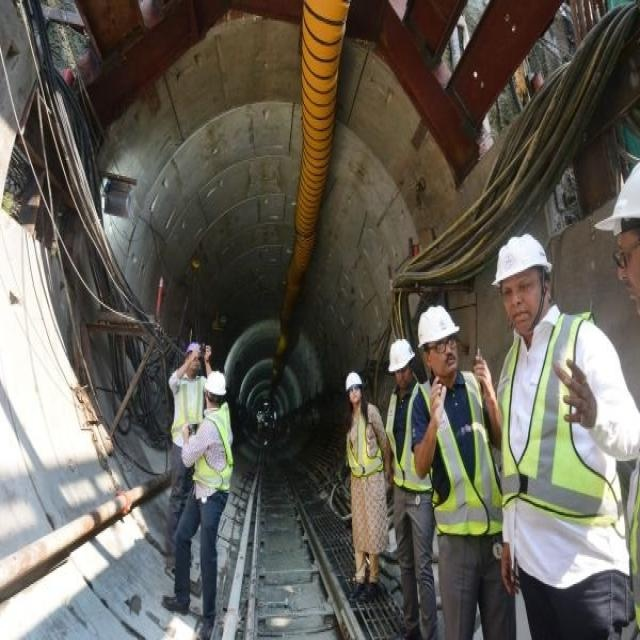Con_Casco: (493, 233, 555, 319), (420, 305, 460, 367)
Con_Chaleco: (497, 321, 613, 527), (418, 372, 496, 529), (192, 410, 236, 494), (342, 410, 379, 486)
